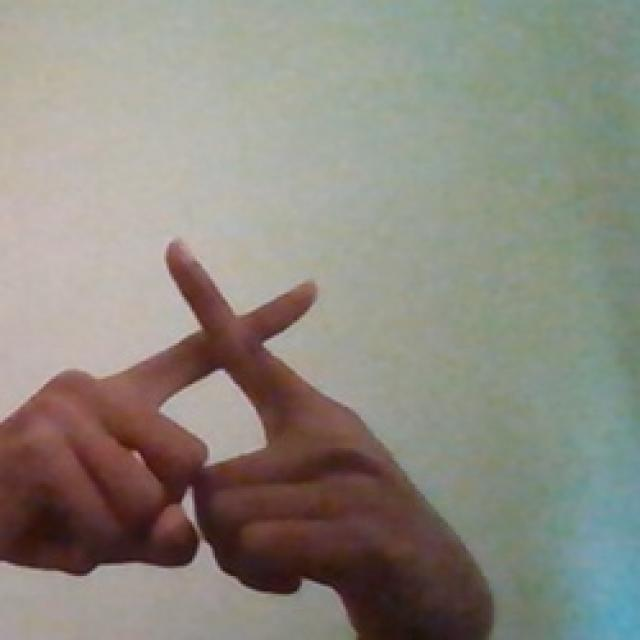Alphabet-X: (3, 198, 520, 640)
